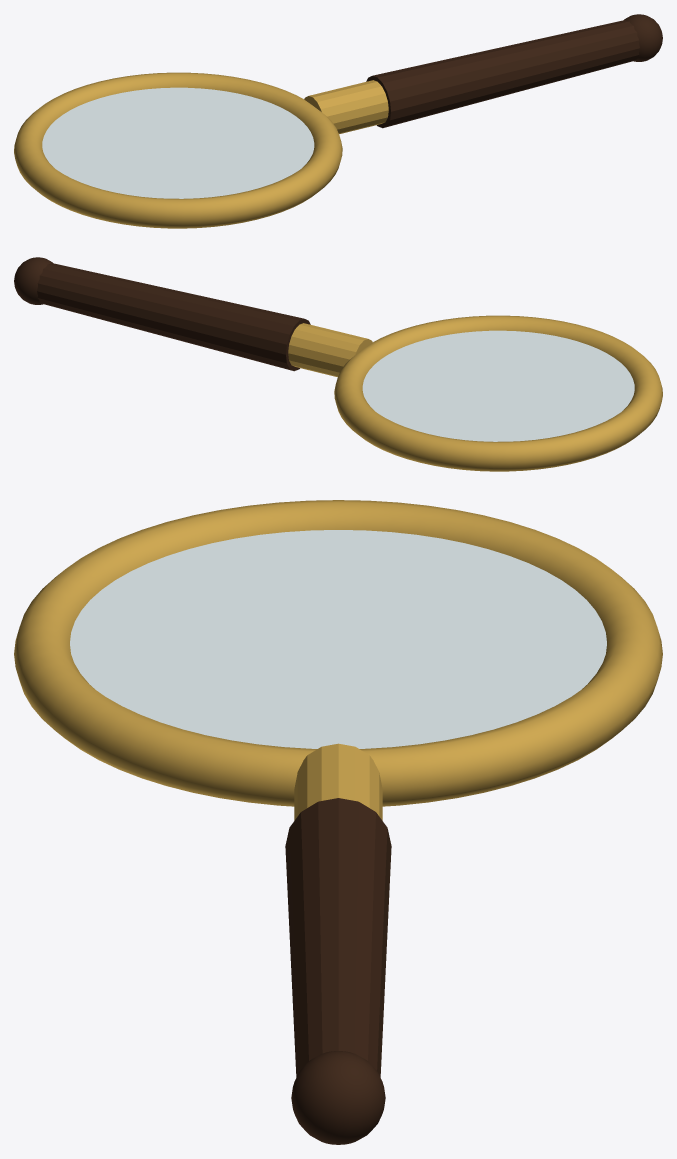
Rendered from magnifier.fbx.
3 views of the same model, one above another, from view 1: azimuth 30°, elevation 25°; view 2: azimuth 150°, elevation 25°; view 3: azimuth 270°, elevation 25° (orthographic). The views are drawn at different scales.
Parts seen in each view (by area): view 1: lens, ring, handle, collar, knob; view 2: lens, ring, handle, collar, knob; view 3: lens, ring, handle, knob, collar.
Boxes of the visible parts, x1,y1,x2,y2 form: lens: [42, 87, 314, 198]; ring: [14, 72, 342, 228]; handle: [366, 20, 639, 128]; collar: [304, 80, 388, 134]; knob: [624, 14, 662, 61]; lens: [362, 330, 634, 441]; ring: [334, 315, 662, 471]; handle: [37, 263, 310, 371]; collar: [288, 323, 372, 377]; knob: [14, 257, 52, 304]; lens: [70, 530, 606, 748]; ring: [14, 500, 662, 806]; handle: [285, 798, 391, 1076]; knob: [291, 1051, 385, 1144]; collar: [294, 743, 382, 820].
Size of the model in its own units: 0.241 by 0.018 by 0.11.
